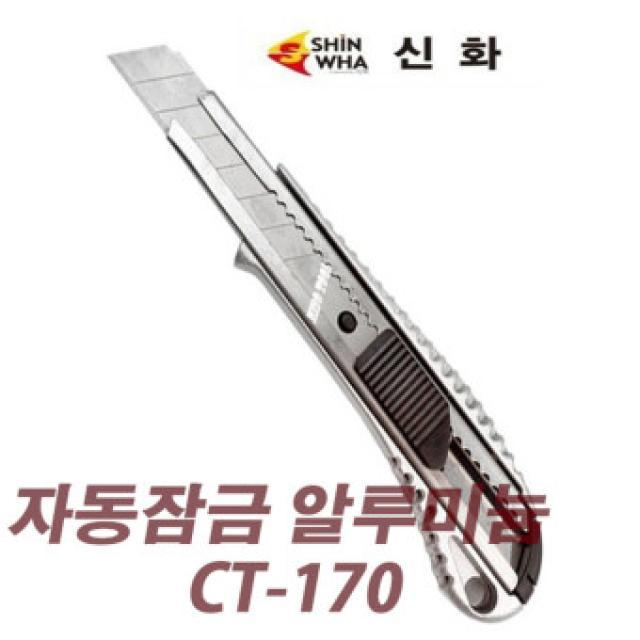cutter: (100, 42, 550, 625)
